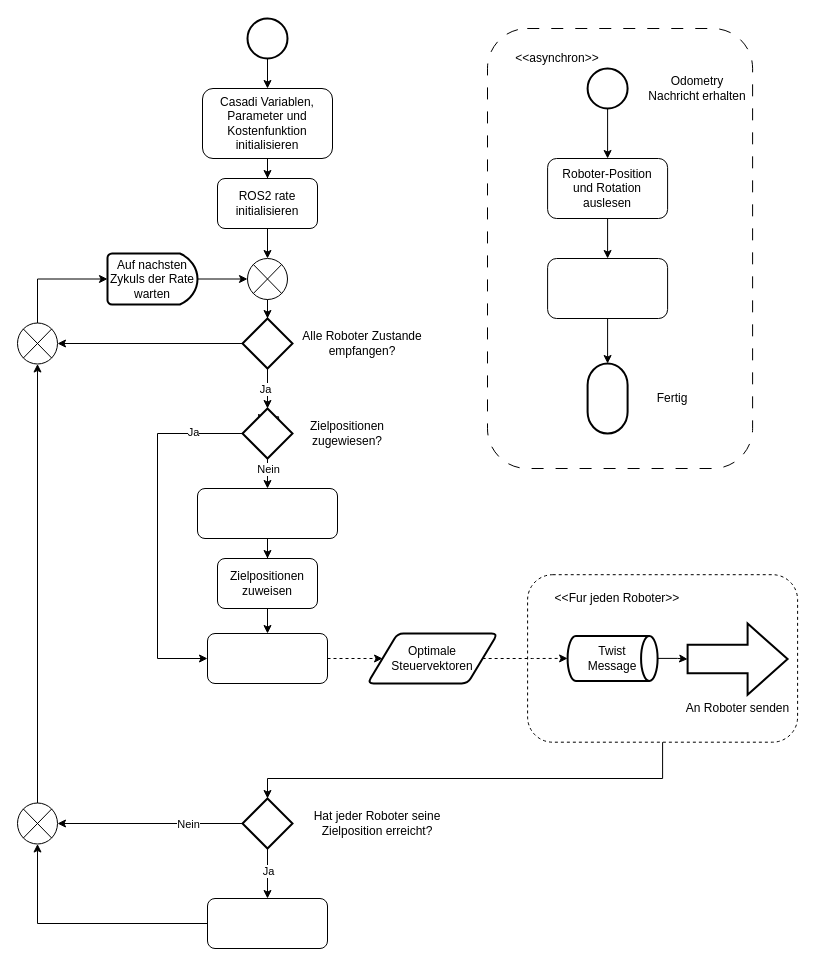
The diagram is 816 pixels wide and 966 high, and some of its shapes have lost their labels. Here are the shapes that lost their labels. From the top down, the centre of each, then its label:
At pixel 607 288: "Roboter Zustand updaten".
At pixel 267 513: "Zielpositionen der nachsten Formation auslesen".
At pixel 267 658: "Optimierungsproblem losen".
At pixel 267 923: "Zielposition fur jeden Roboter zurucksetzen".
